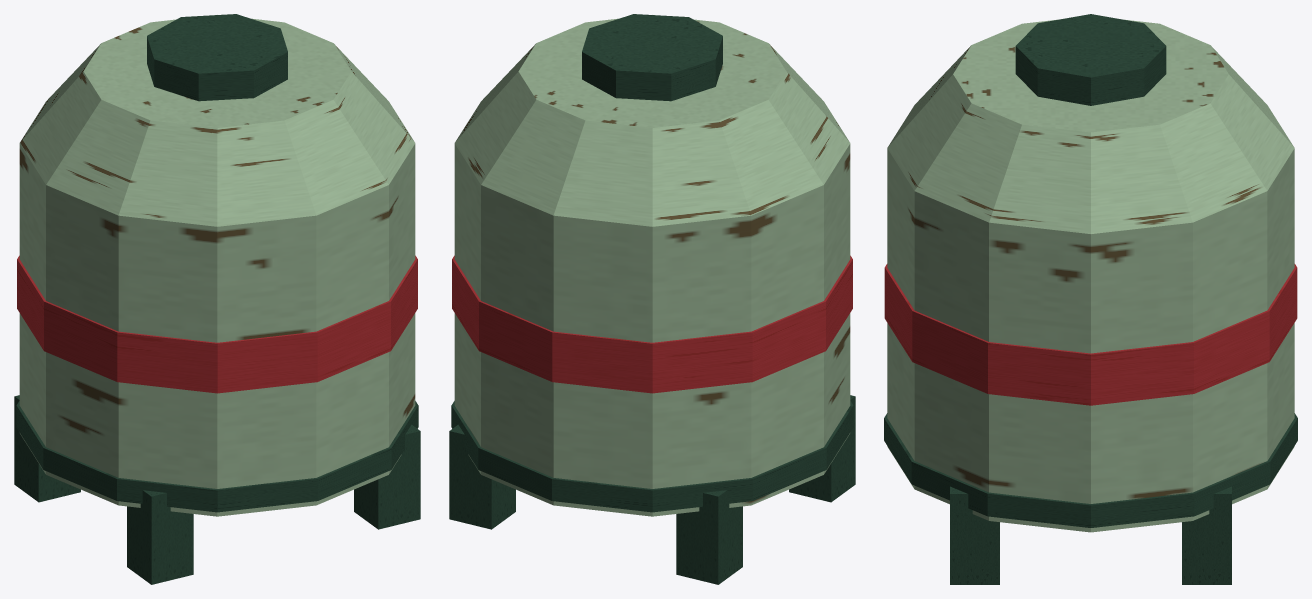
Rendered from RoofVessel.fbx.
3 views of the same model, side by side, from view 1: azimuth 30°, elevation 25°; view 2: azimuth 150°, elevation 25°; view 3: azimuth 270°, elevation 25° (orthographic). The views are drawn at different scales.
Visible parts, largest first — view 1: RoofVessel; view 2: RoofVessel; view 3: RoofVessel.
Boxes of the visible parts, x1,y1,x2,y2 form: RoofVessel: (14,14,420,584); RoofVessel: (449,14,855,584); RoofVessel: (884,14,1297,584).
Bounding box in the file's own units: 132 × 166 × 132.
